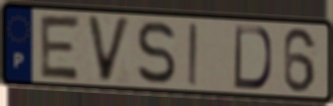6: (282, 26, 319, 95)
D: (231, 23, 274, 92)
E: (38, 13, 83, 83)
I: (186, 21, 201, 88)
S: (136, 19, 178, 87)
V: (84, 14, 133, 86)
